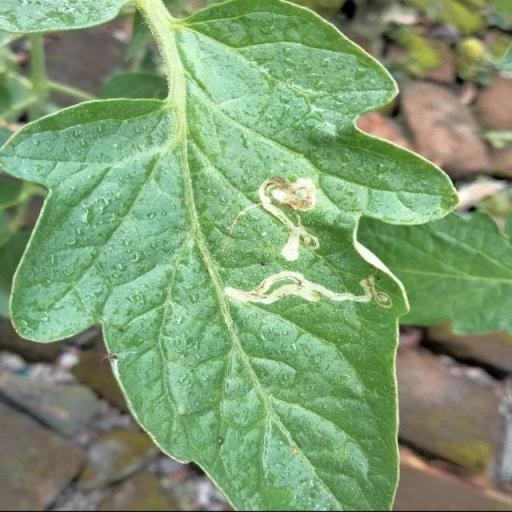disease_tomato: (0, 0, 458, 512)
